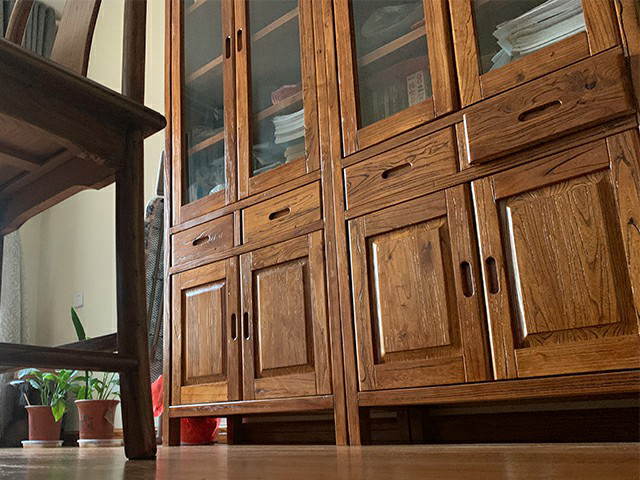cabinet: (157, 48, 640, 445)
stool: (1, 1, 166, 457)
